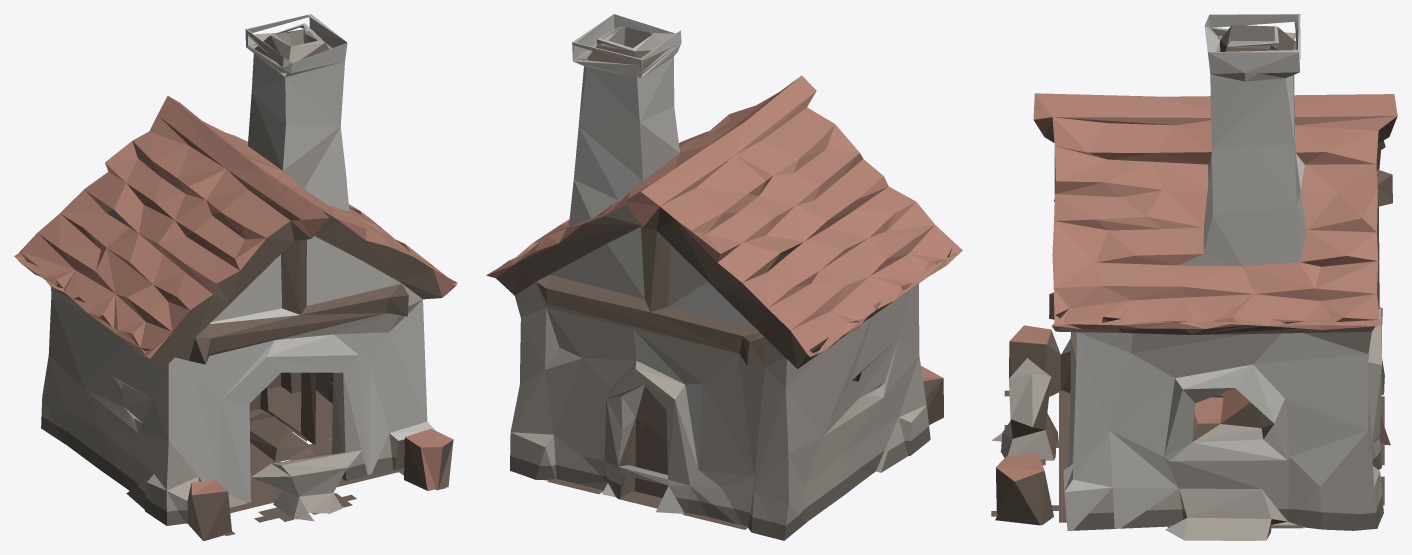
3 renders of one model, left to right at view 1: azimuth 30°, elevation 25°; view 2: azimuth 150°, elevation 25°; view 3: azimuth 270°, elevation 25°, orthographic. The views are drawn at different scales.
Visible parts, largest first — view 1: geometry_0; view 2: geometry_0; view 3: geometry_0.
Part boxes in pixels (x1=…): geometry_0: x1=14, y1=14, x2=457, y2=540; geometry_0: x1=486, y1=14, x2=962, y2=540; geometry_0: x1=991, y1=14, x2=1397, y2=540.
Size of the model in its own units: 0.8137 by 0.9557 by 0.7621.
